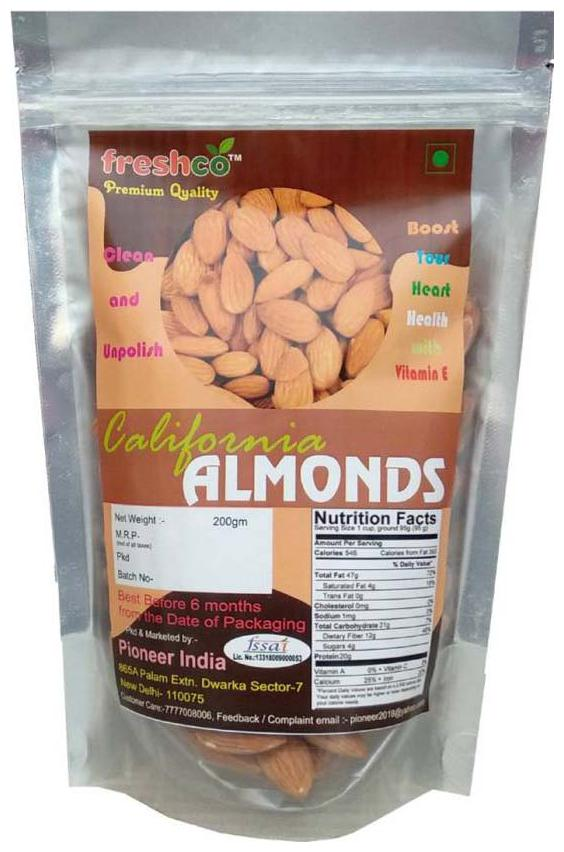fssai: (244, 635, 288, 653)
